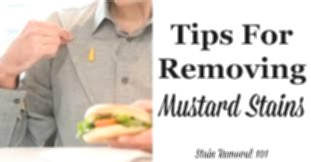mustard: (86, 45, 99, 64)
